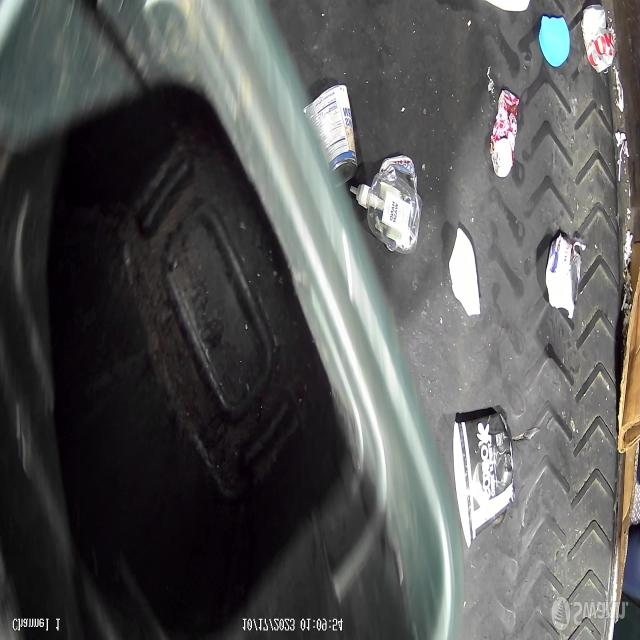can: (311, 83, 359, 187), (490, 89, 521, 178), (582, 4, 619, 76), (546, 236, 580, 312)
